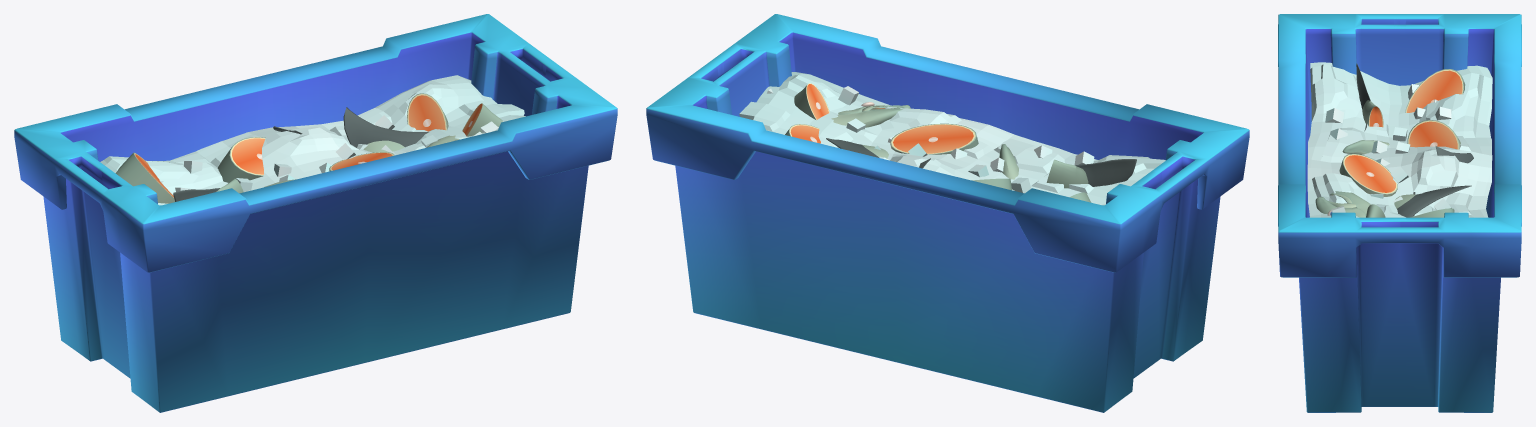
The model's file is icebox.fbx.
3 views of the same model, side by side, from view 1: azimuth 30°, elevation 25°; view 2: azimuth 150°, elevation 25°; view 3: azimuth 270°, elevation 25° (orthographic). The views are drawn at different scales.
Parts seen in each view (by area): view 1: icebox, icecube, body_8-2.002, body_3-2.001, body_1-2.001, body_5-2.001, body_7-2.001, body_8-2.001; view 2: icebox, icecube, body_3-2.002, body_8-2.001, head-2.001, body_7-2.001; view 3: icebox, icecube, body_3-2.002, body_1-2.001, body_3-2.001, body_8-2.002, head-2.001, body_8-2.001, head-2.002, fin_2-2.001, body_5-2.001.
Boxes of the visible parts, <box> form: icebox: <box>14,14,617,412</box>; icecube: <box>100,75,525,205</box>; body_8-2.002: <box>343,107,428,152</box>; body_3-2.001: <box>217,137,265,182</box>; body_1-2.001: <box>115,152,174,203</box>; body_5-2.001: <box>407,93,448,131</box>; body_7-2.001: <box>462,103,502,136</box>; body_8-2.001: <box>173,178,243,201</box>; icebox: <box>646,14,1249,412</box>; icecube: <box>739,72,1165,205</box>; body_3-2.002: <box>890,123,978,154</box>; body_8-2.001: <box>1046,159,1136,188</box>; head-2.001: <box>831,105,910,127</box>; body_7-2.001: <box>794,83,829,119</box>; icebox: <box>1278,14,1521,412</box>; icecube: <box>1307,62,1492,217</box>; body_3-2.002: <box>1339,153,1397,196</box>; body_1-2.001: <box>1405,69,1465,112</box>; body_3-2.001: <box>1407,120,1460,149</box>; body_8-2.002: <box>1394,185,1471,217</box>; head-2.001: <box>1315,191,1370,217</box>; body_8-2.001: <box>1356,63,1383,127</box>; head-2.002: <box>1342,140,1389,154</box>; fin_2-2.001: <box>1435,146,1473,163</box>; body_5-2.001: <box>1411,208,1454,217</box>.
Size of the model in its own units: 491 by 206 by 232.
Materials: 10 (10 with a texture image).
